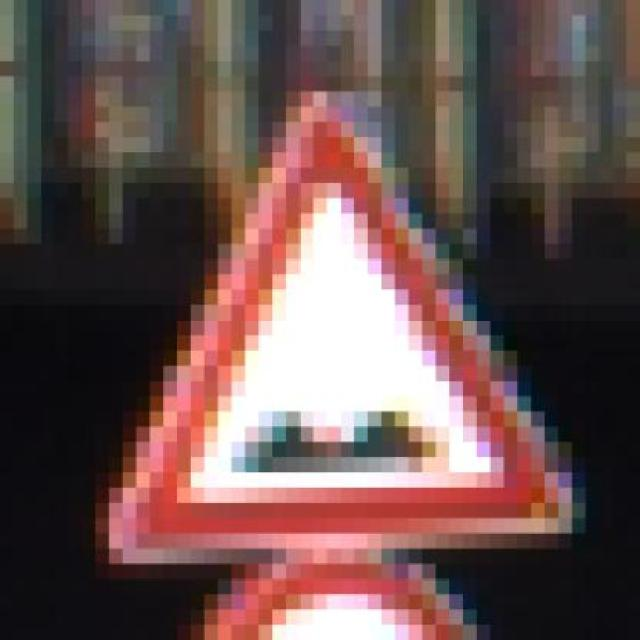Uneven Road: (82, 61, 612, 564)
